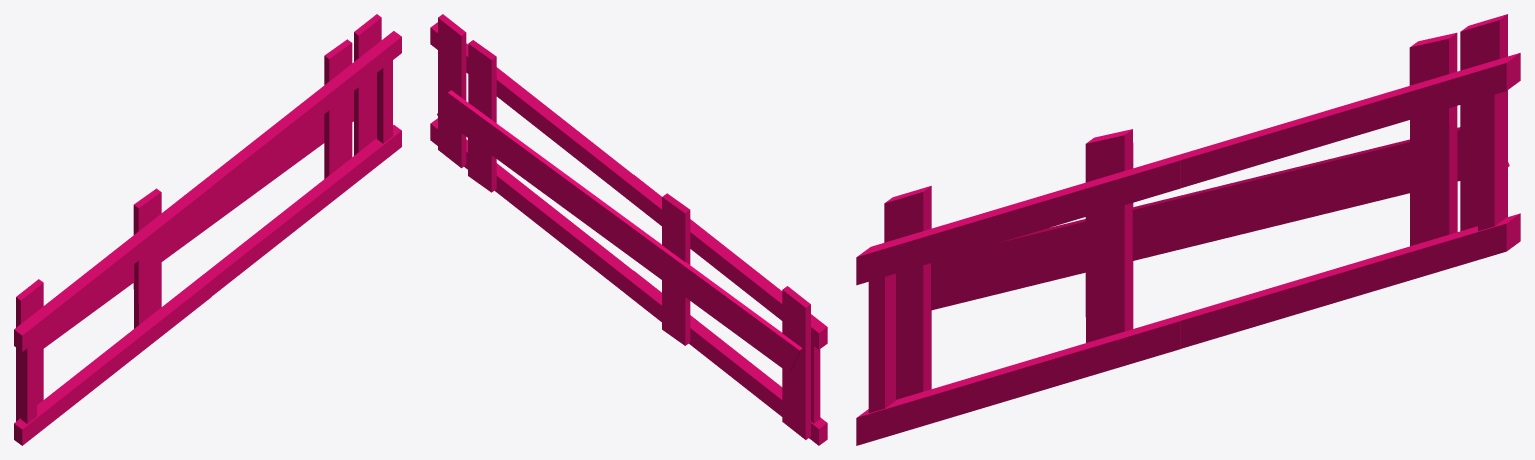
Rendered from Bastion_Fence_07_Lod0.fbx.
The picture shows the model from 3 angles, left to right: view 1: azimuth 30°, elevation 25°; view 2: azimuth 150°, elevation 25°; view 3: azimuth 330°, elevation 25°; orthographic projection. The views are drawn at different scales.
Visible parts, largest first — view 1: Bastion_Fence_07_Lod0; view 2: Bastion_Fence_07_Lod0; view 3: Bastion_Fence_07_Lod0.
Boxes of the visible parts, x1=… form: Bastion_Fence_07_Lod0: x1=14, y1=14, x2=401, y2=445; Bastion_Fence_07_Lod0: x1=430, y1=14, x2=827, y2=445; Bastion_Fence_07_Lod0: x1=856, y1=14, x2=1520, y2=445.
Bounding box in the file's own units: 299 × 251 × 22.85.
